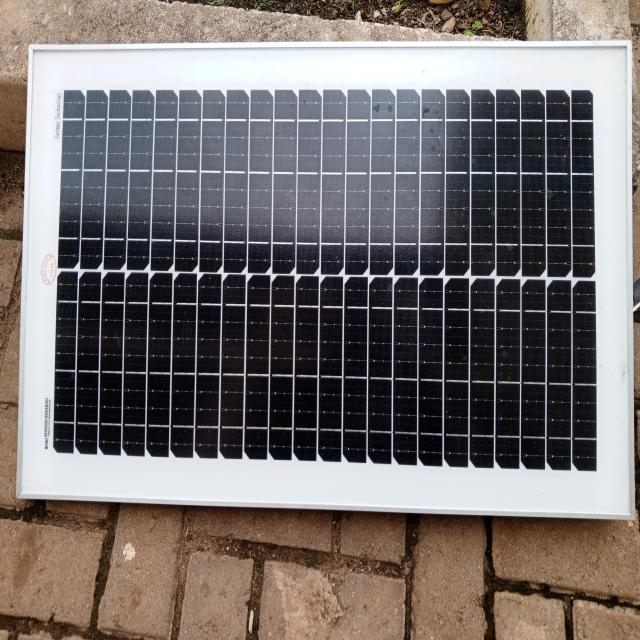Clean: (49, 64, 615, 494)
